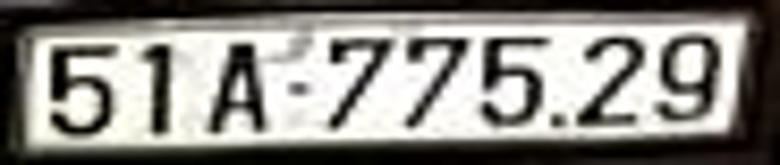-: (289, 80, 309, 97)
.: (550, 110, 567, 129)
1: (139, 42, 171, 133)
2: (579, 34, 640, 128)
5: (479, 34, 547, 131), (46, 44, 117, 135)
7: (323, 34, 391, 130), (402, 34, 470, 129)
9: (661, 33, 721, 120)
A: (206, 42, 266, 134)
